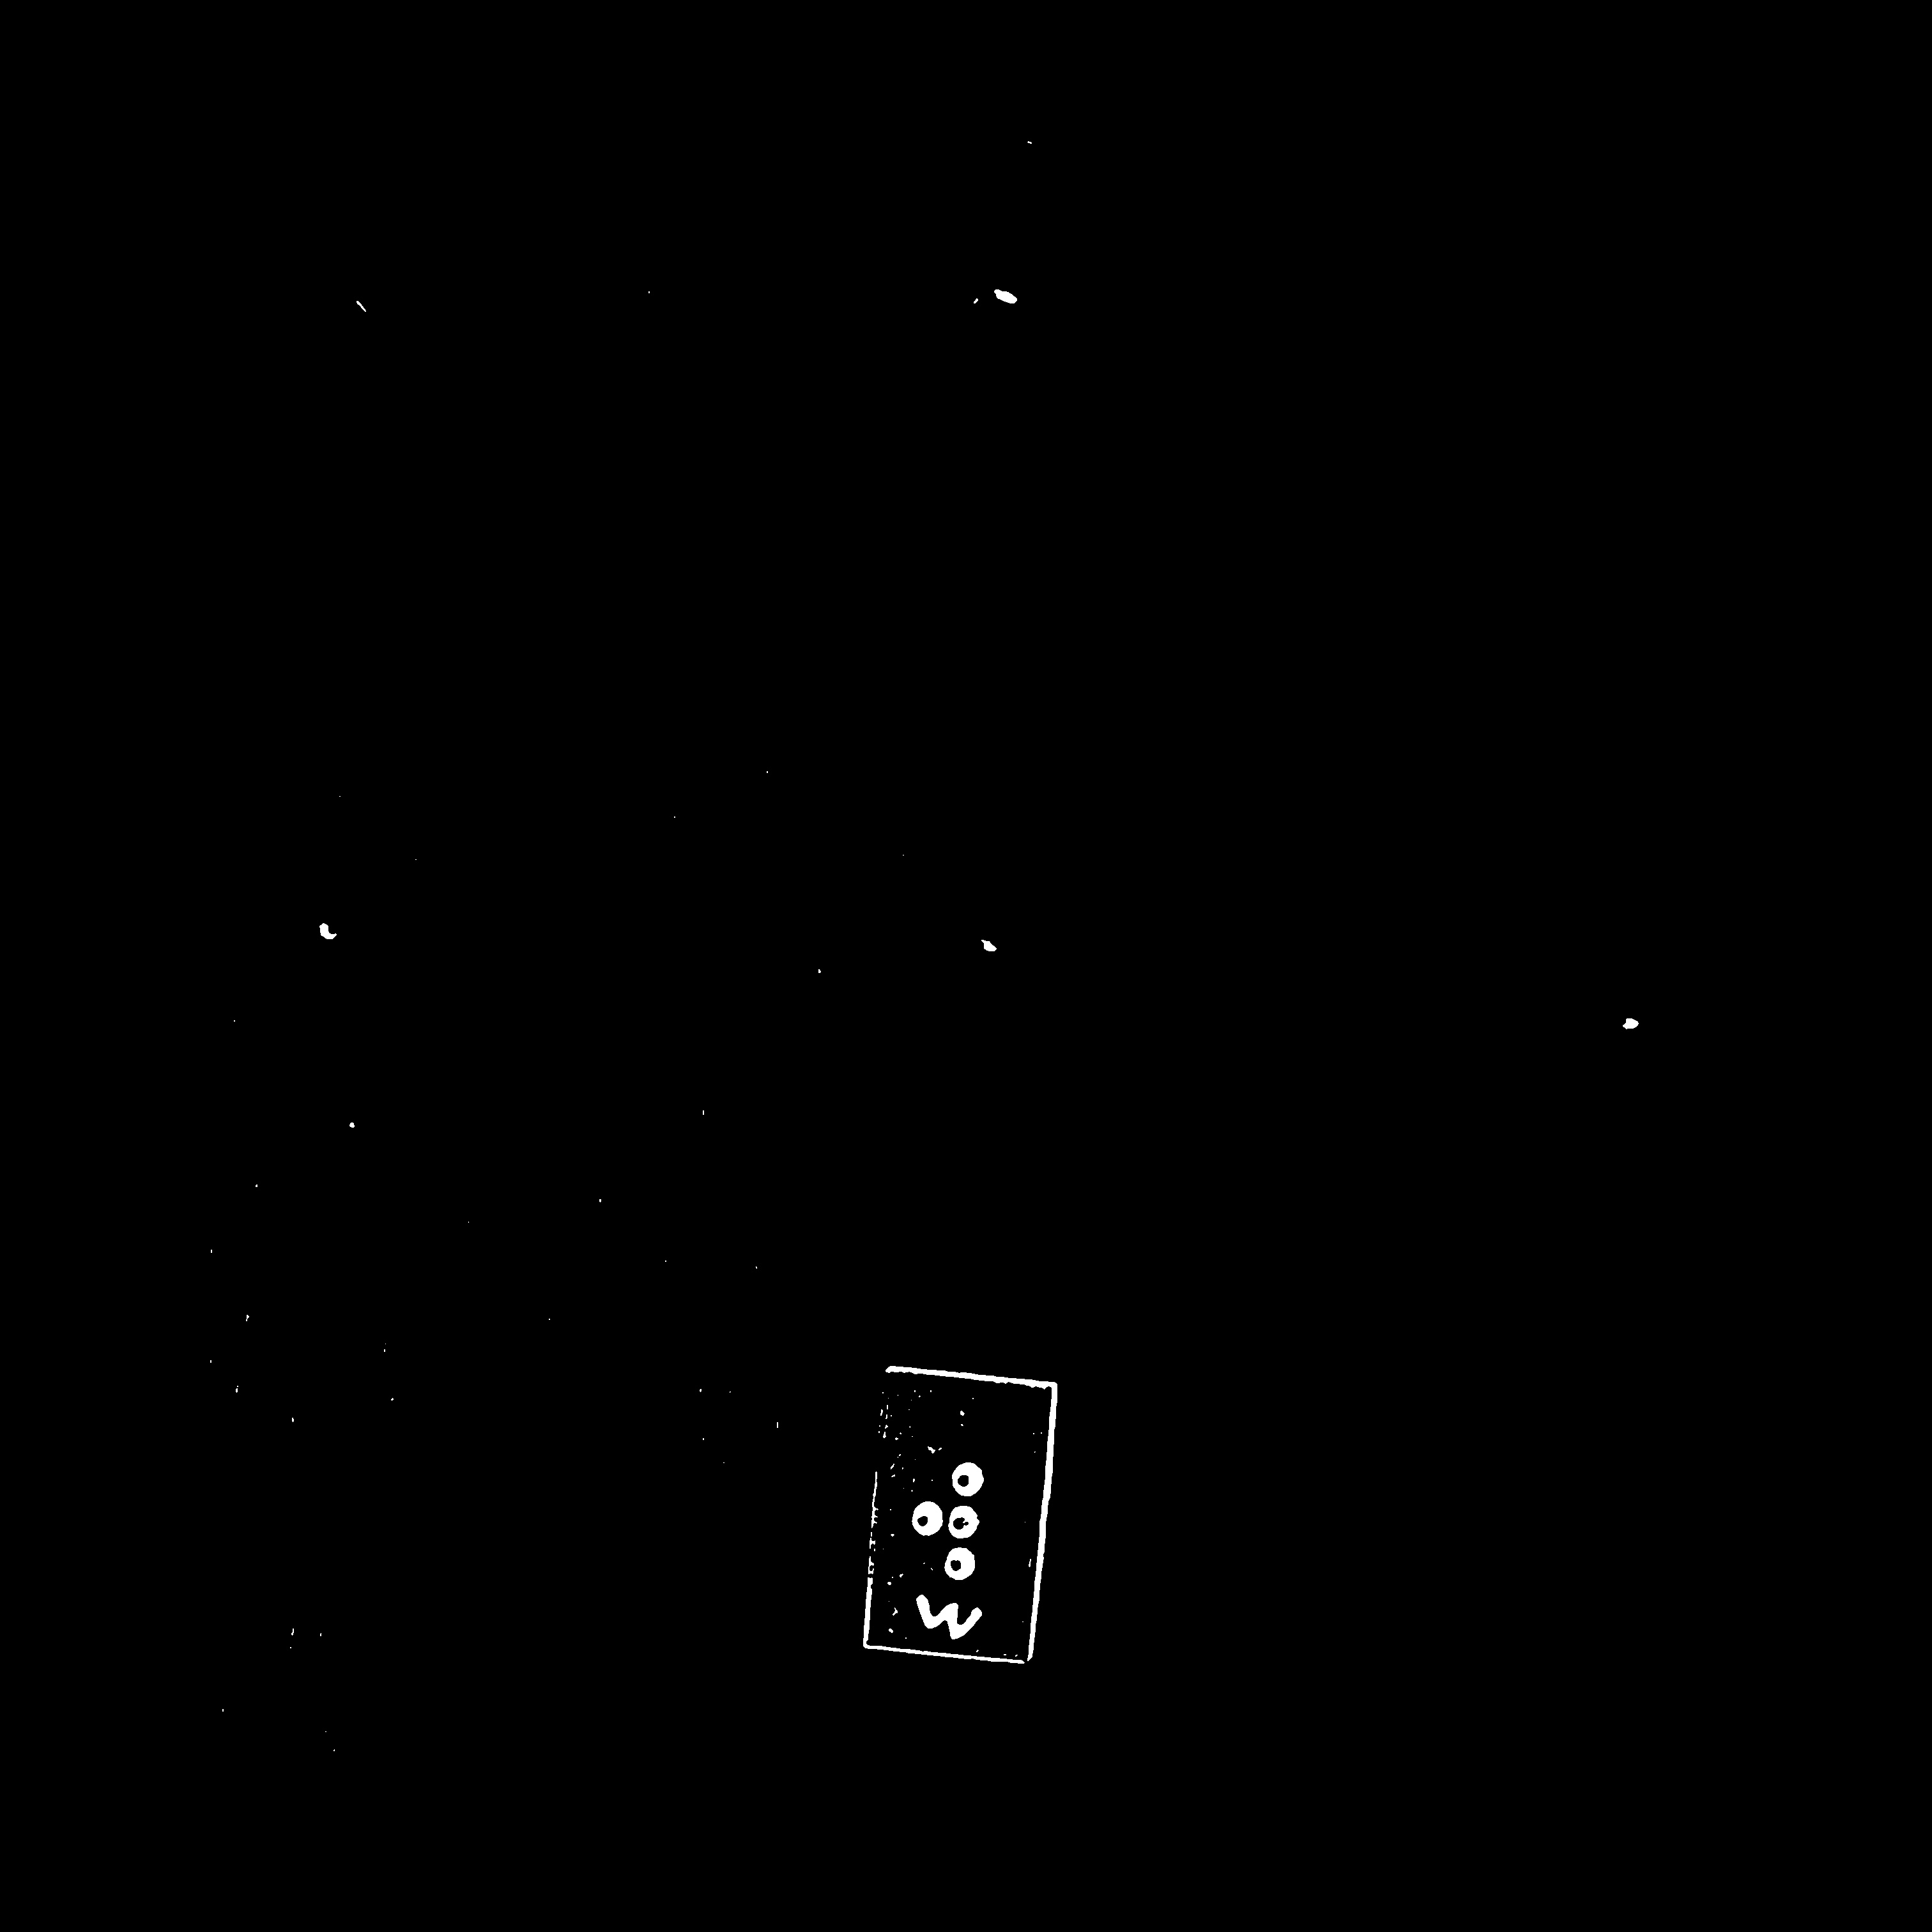w: (901, 1448, 997, 1590)
